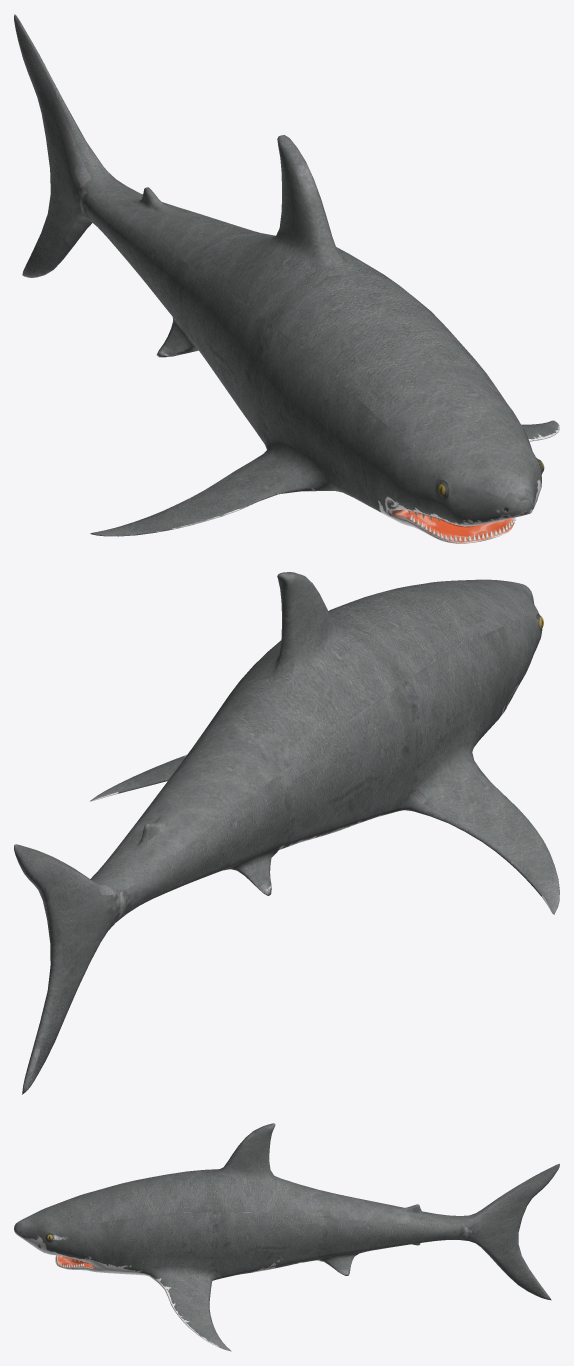
The model's file is Shark.fbx.
The picture shows the model from 3 angles, top to bottom: view 1: azimuth 30°, elevation 25°; view 2: azimuth 150°, elevation 25°; view 3: azimuth 270°, elevation 25°; orthographic projection. The views are drawn at different scales.
Visible parts, largest first — view 1: Shark; view 2: Shark; view 3: Shark.
Part boxes in pixels (x1=…): Shark: x1=14, y1=14, x2=559, y2=543; Shark: x1=14, y1=572, x2=559, y2=1094; Shark: x1=14, y1=1123, x2=559, y2=1351.
Size of the model in its own units: 3.06 by 2.08 by 5.83.
